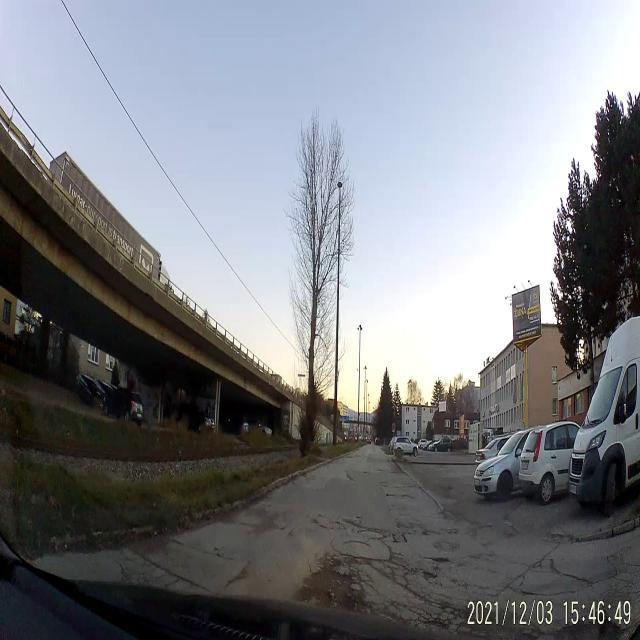Manhole: (344, 538, 372, 556), (436, 537, 462, 552), (361, 528, 384, 542)
Pothole: (313, 560, 361, 612), (342, 513, 362, 538), (384, 522, 402, 548), (428, 552, 450, 570)
